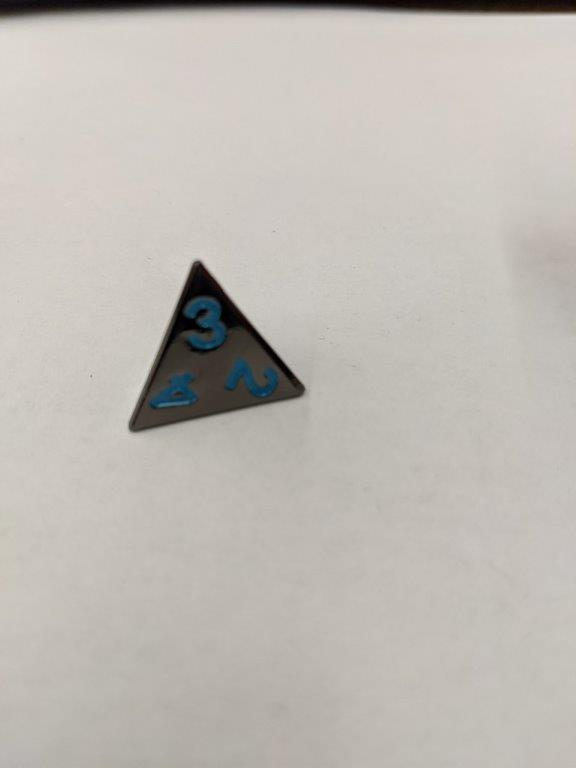d4-3: (128, 258, 308, 434)
